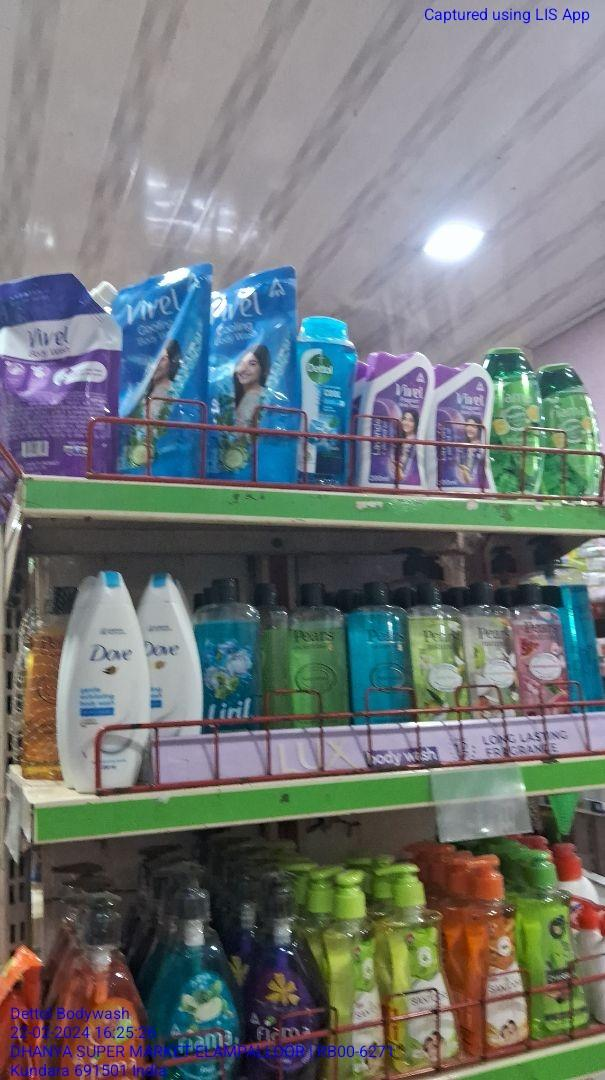Dettol_Bodywash_Cool: (301, 313, 348, 486)
Dove_Gentle_Exfoliating_Body_Wash_250ML: (65, 577, 144, 794), (145, 572, 204, 736)
Pears_Naturale_Aloe_Vera_Body_Wash_250ML: (409, 582, 474, 723)
Pears_Pure_Glycerin_and_Lemon_Flower_Extracts_Body_Wash_250ML: (292, 582, 349, 727)
